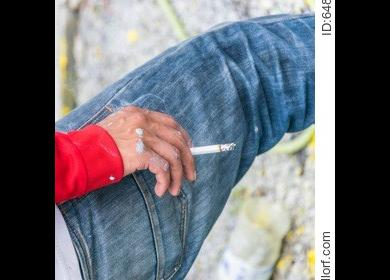Cigarette: (187, 141, 236, 154)
